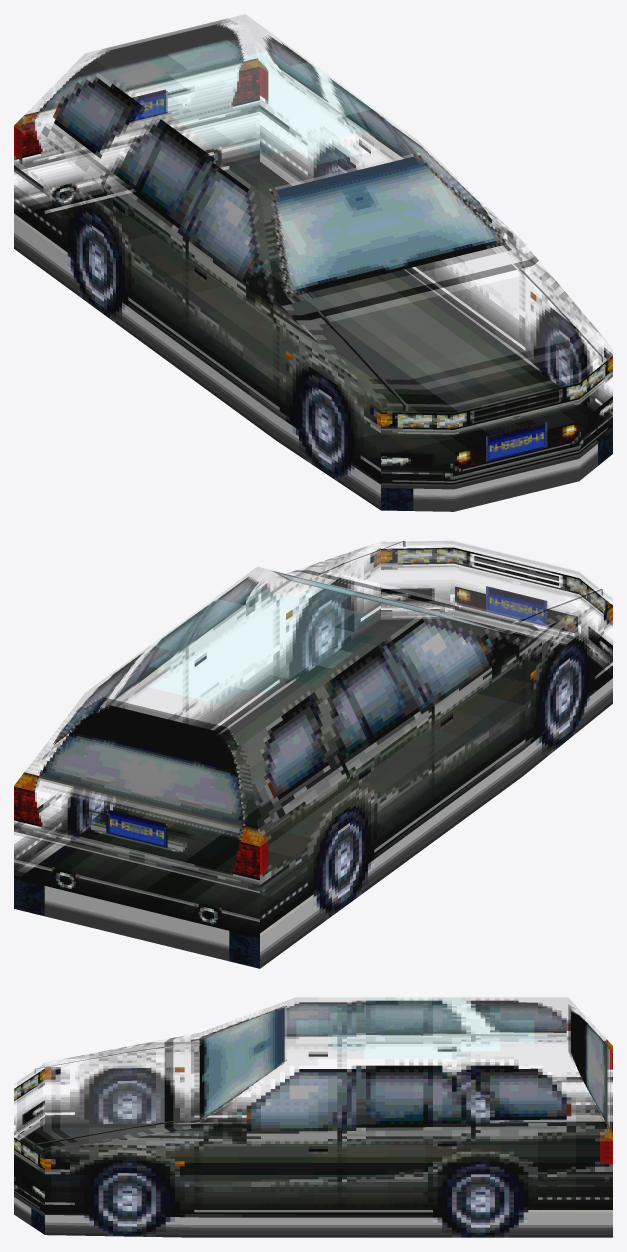
The model's file is glass-237.glb.
3 views of the same model, one above another, from view 1: azimuth 30°, elevation 25°; view 2: azimuth 150°, elevation 25°; view 3: azimuth 270°, elevation 25° (orthographic). The views are drawn at different scales.
Visible parts, largest first — view 1: model; view 2: model; view 3: model.
Boxes of the visible parts, <box> form: model: <box>14,14,612,511</box>; model: <box>14,540,612,968</box>; model: <box>14,997,612,1237</box>.
Size of the model in its own units: 17.97 by 14.37 by 48.03.
4 materials, 4 textured.
